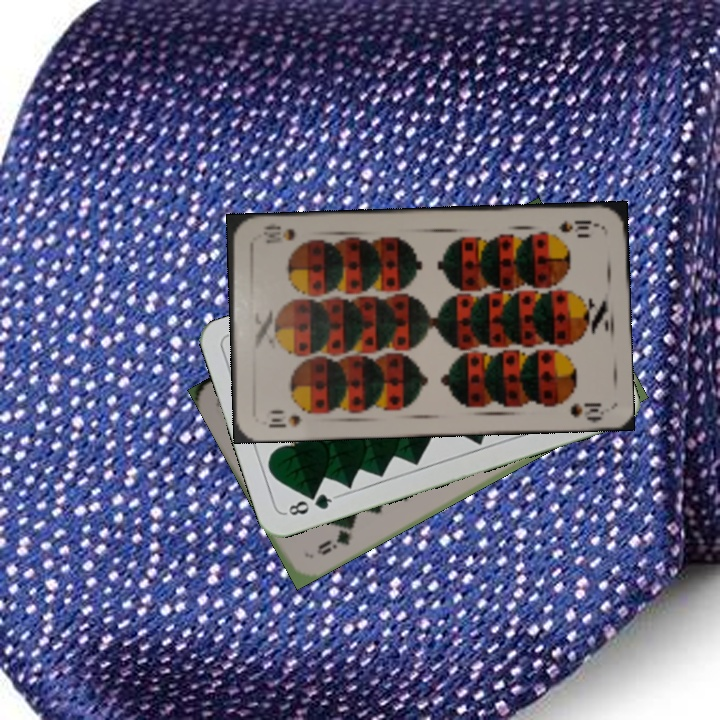G8: (281, 489, 339, 518)
G9: (312, 519, 357, 558)
S10: (555, 216, 601, 237), (264, 406, 304, 430)
